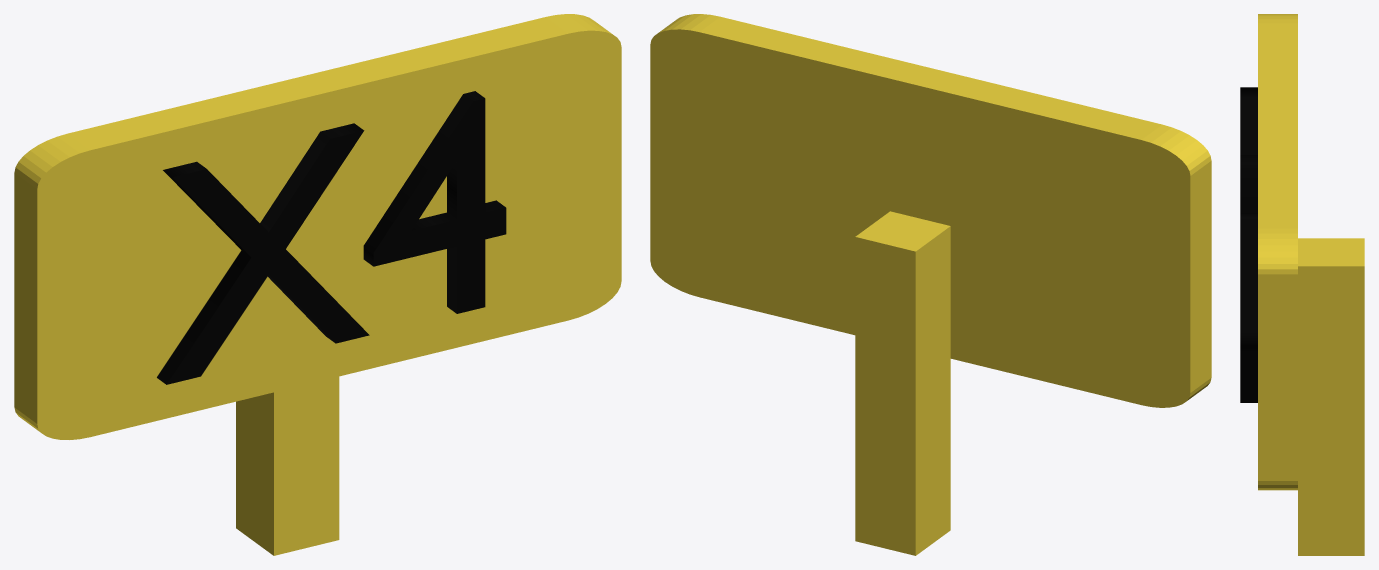
File: End Score Sign X4.fbx
3 renders of one model, left to right at view 1: azimuth 30°, elevation 25°; view 2: azimuth 150°, elevation 25°; view 3: azimuth 270°, elevation 25°, orthographic. The views are drawn at different scales.
Visible parts, largest first — view 1: Sign X4, Text.002; view 2: Sign X4; view 3: Sign X4, Text.002.
Part boxes in pixels (x1=…): Sign X4: x1=14, y1=14, x2=621, y2=555; Text.002: x1=157, y1=91, x2=506, y2=384; Sign X4: x1=650, y1=14, x2=1211, y2=555; Sign X4: x1=1258, y1=14, x2=1364, y2=555; Text.002: x1=1240, y1=87, x2=1257, y2=402.
Bounding box in the file's own units: 595 × 460 × 124.
